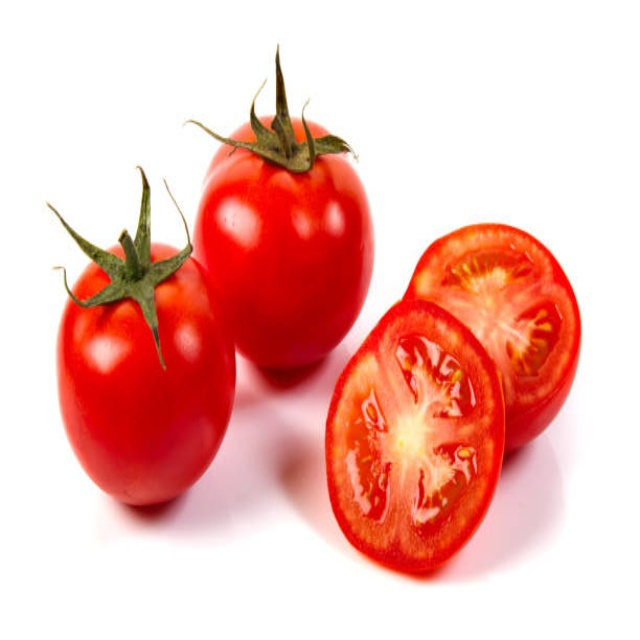tomato: (329, 217, 589, 576), (48, 245, 230, 514), (201, 116, 367, 369)
